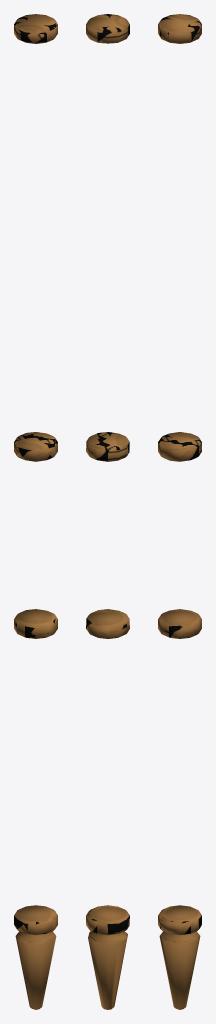
The model's file is Atalanta_Lanza_Bronce.fbx.
The picture shows the model from 3 angles, left to right: view 1: azimuth 90°, elevation 25°; view 2: azimuth 210°, elevation 25°; view 3: azimuth 270°, elevation 25°; orthographic projection.
Parts seen in each view (by area): view 1: Atalanta_Lanza_Bronce; view 2: Atalanta_Lanza_Bronce; view 3: Atalanta_Lanza_Bronce.
Part boxes in pixels (x1=…): Atalanta_Lanza_Bronce: x1=14, y1=14, x2=57, y2=1009; Atalanta_Lanza_Bronce: x1=86, y1=14, x2=129, y2=1009; Atalanta_Lanza_Bronce: x1=158, y1=14, x2=201, y2=1009.
Bounding box in the file's own units: 0.1929 × 4.77 × 0.1929.
